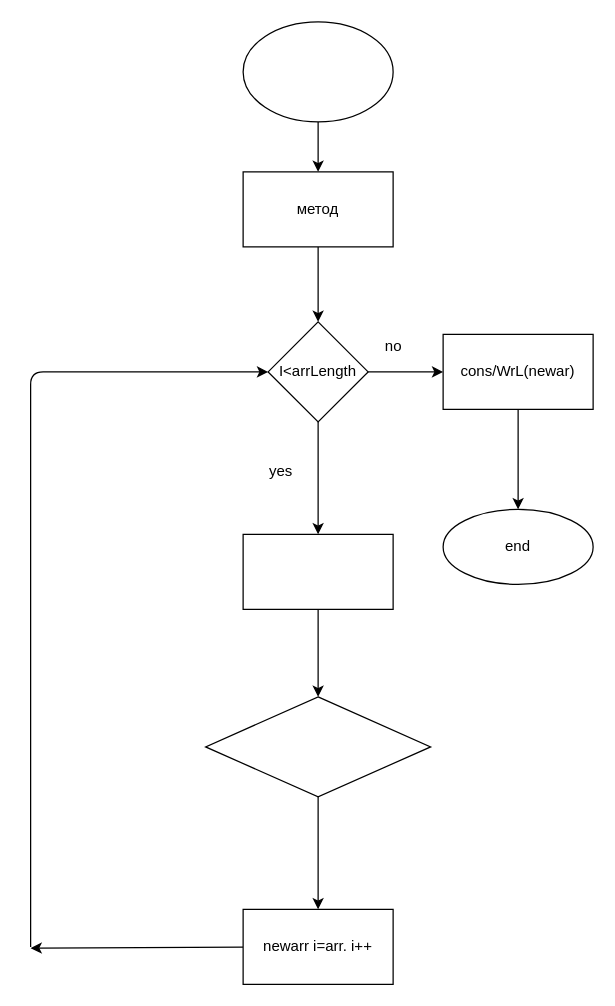
Some shapes in this 615 by 1006 pixel diagram are drawn without their labels. Here are the shapes that lost their labels. From the top down, the box of each, then its label:
(242, 21, 393, 122): Старт метода
(242, 533, 393, 609): value=arr
(204, 696, 431, 797): value.length<=n
